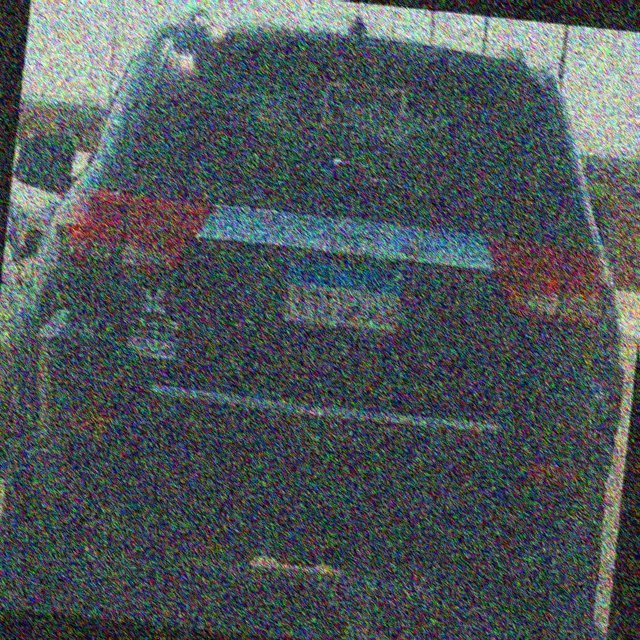License Plate: (277, 253, 410, 342)
